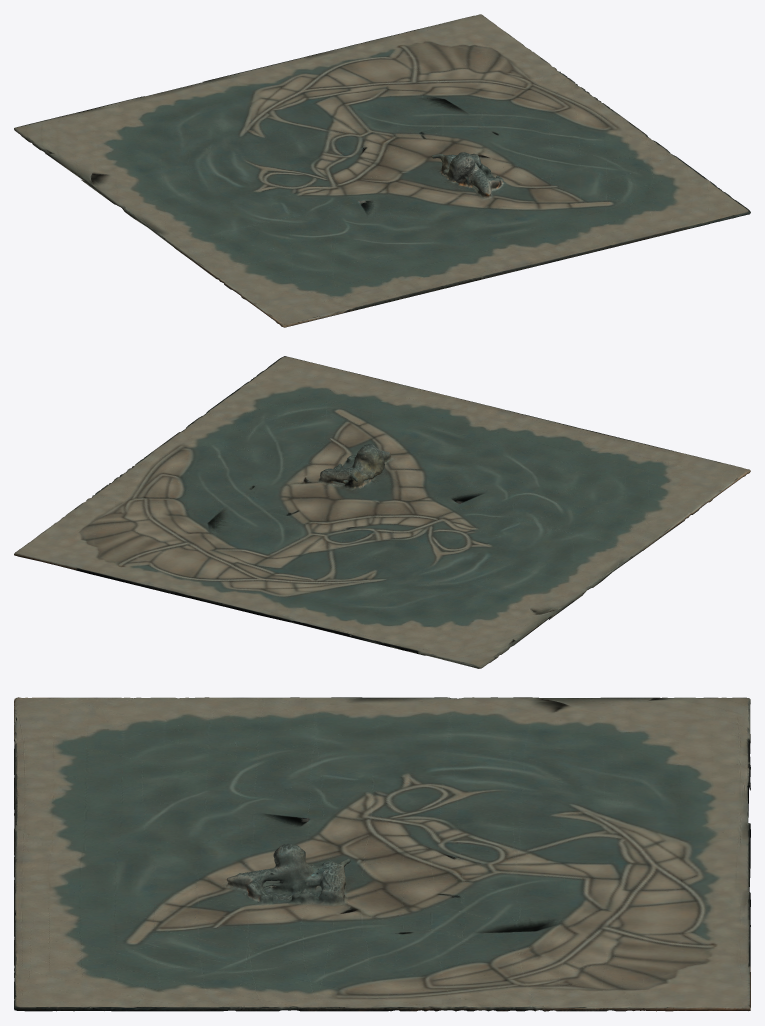
File: sirra.glb
3 views of the same model, one above another, from view 1: azimuth 30°, elevation 25°; view 2: azimuth 150°, elevation 25°; view 3: azimuth 270°, elevation 25° (orthographic). The views are drawn at different scales.
Bounding box in the file's own units: 2 × 0.1657 × 2.
1 material, 1 textured.
